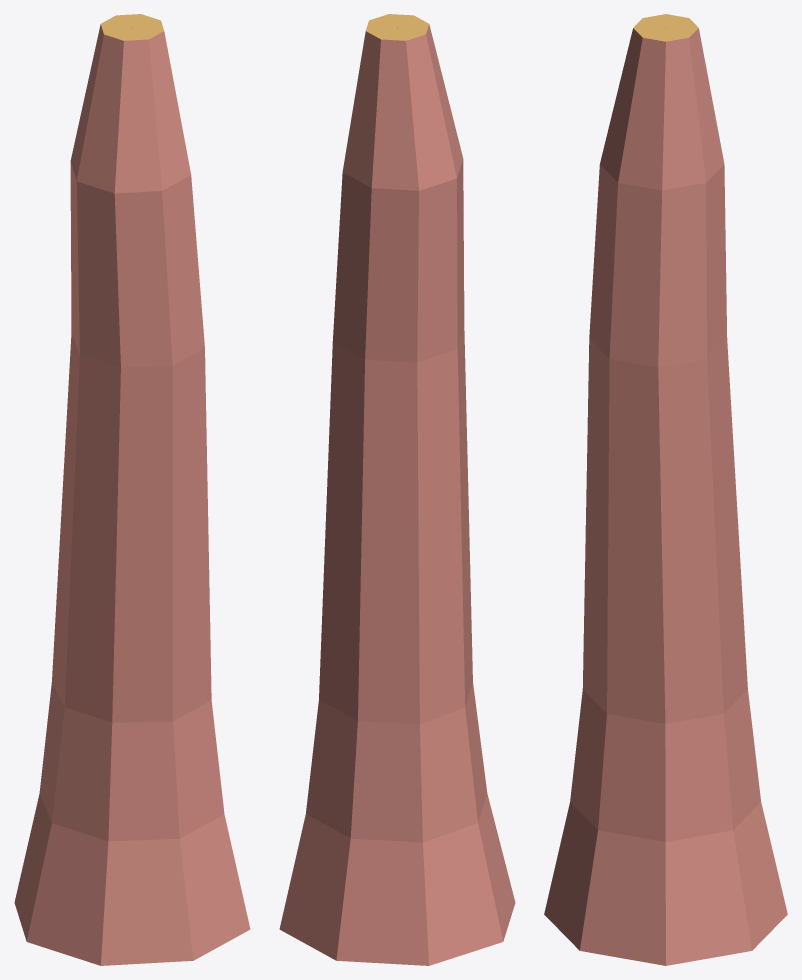
Rendered from Log2.fbx.
3 renders of one model, left to right at view 1: azimuth 30°, elevation 25°; view 2: azimuth 150°, elevation 25°; view 3: azimuth 270°, elevation 25°, orthographic.
Parts seen in each view (by area): view 1: Cylinder; view 2: Cylinder; view 3: Cylinder.
Boxes of the visible parts, x1,y1,x2,y2 form: Cylinder: (14, 14, 250, 965); Cylinder: (279, 14, 515, 965); Cylinder: (544, 14, 787, 965).
Size of the model in its own units: 1.28 by 5.13 by 1.28.
